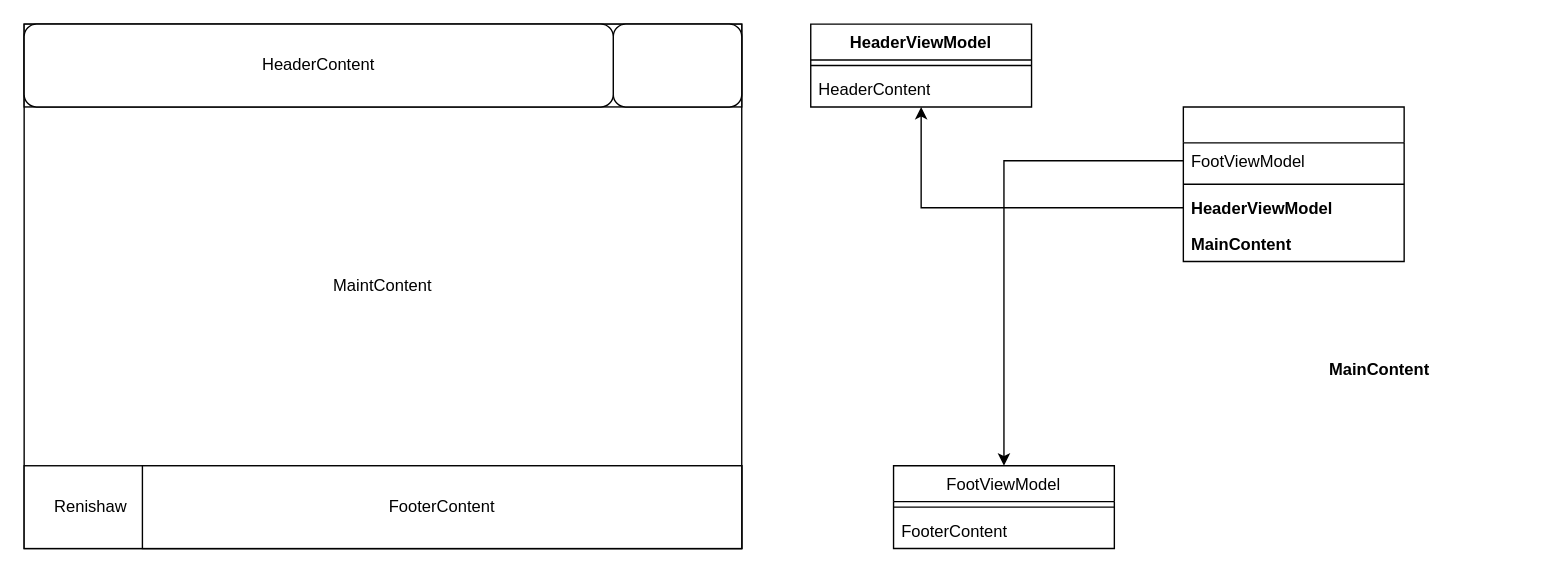
Image size: 1566x577. Some labels were removed from this diagram. The shapes that lost their labels are listed below. From the top down, each one's box as (x1, y1, x2, y2) in pixels, then its label:
(612, 23, 742, 107): Buttons
(1182, 106, 1404, 262): ShellViewModel
